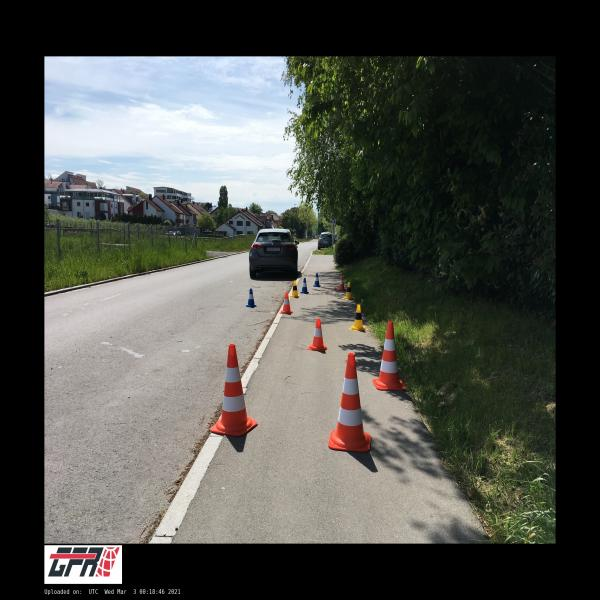blue_cone: (244, 288, 258, 307), (299, 278, 309, 293), (313, 273, 321, 287)
large_orange_cone: (210, 344, 258, 436), (328, 353, 371, 452), (372, 321, 406, 390)
orange_cone: (307, 318, 328, 351), (280, 292, 293, 314), (337, 276, 346, 290)
yellow_cone: (349, 305, 367, 332), (343, 282, 354, 299), (290, 280, 300, 298)
